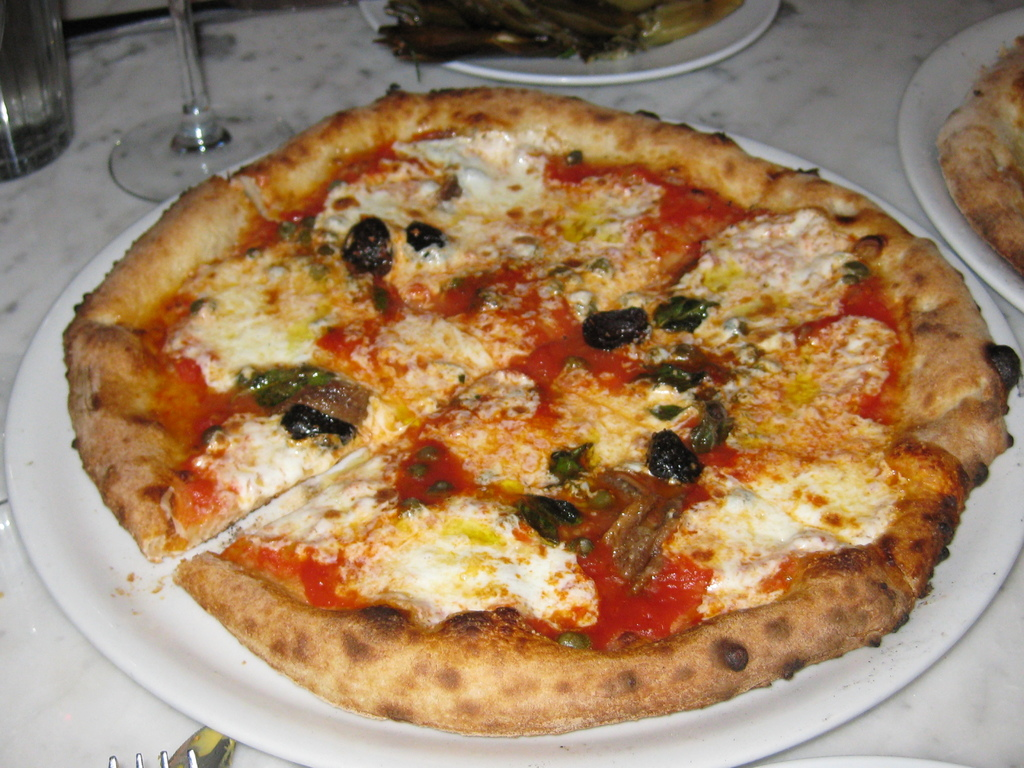Pizza: (58, 81, 1022, 727), (937, 34, 1023, 279)
